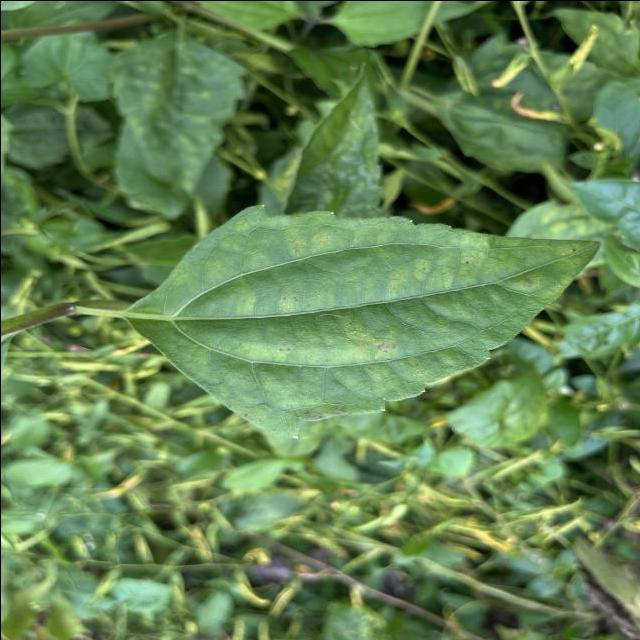Chromolaena odorata: (121, 199, 606, 442)
